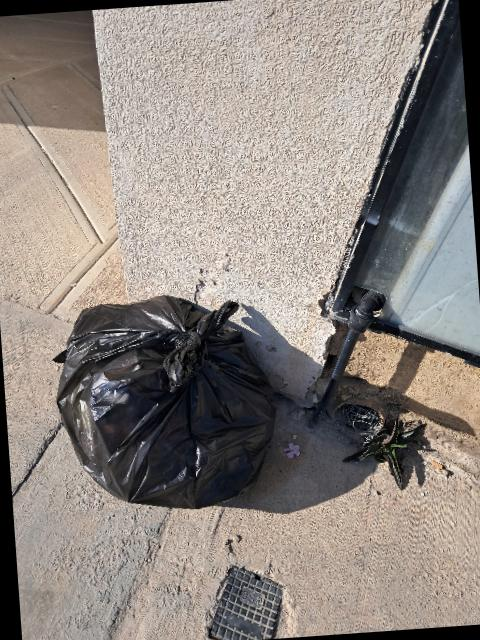Mixed -Black-: (54, 296, 275, 508)
